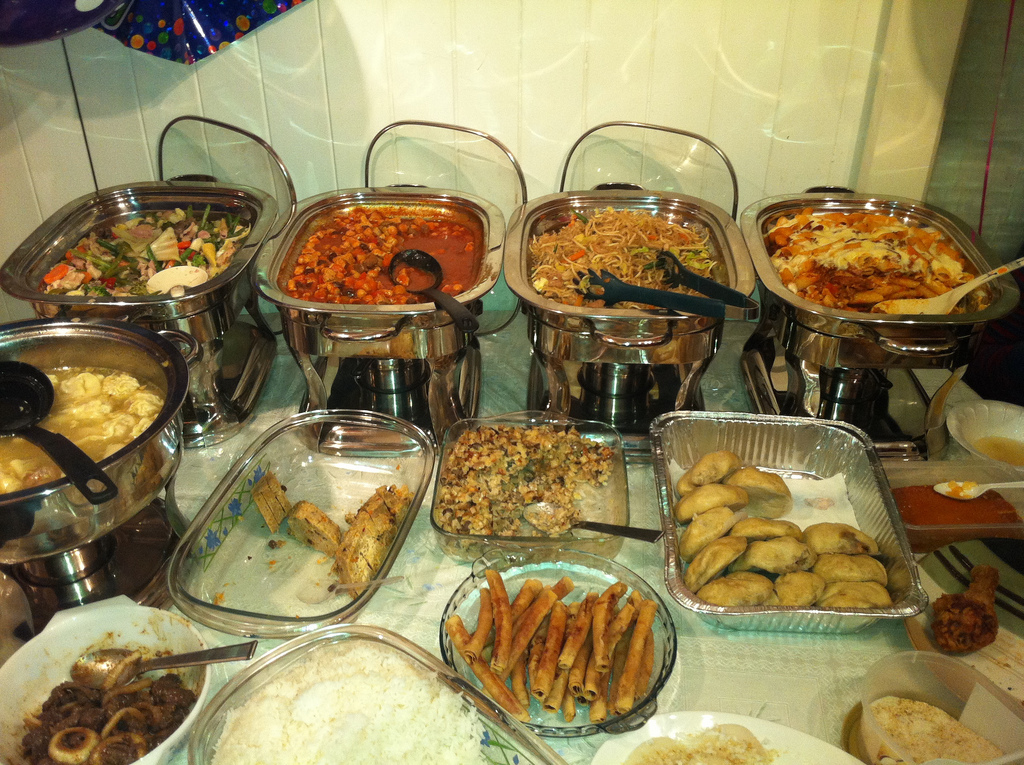plain rice: (213, 647, 472, 765)
plain spaghetti: (538, 217, 704, 304)
